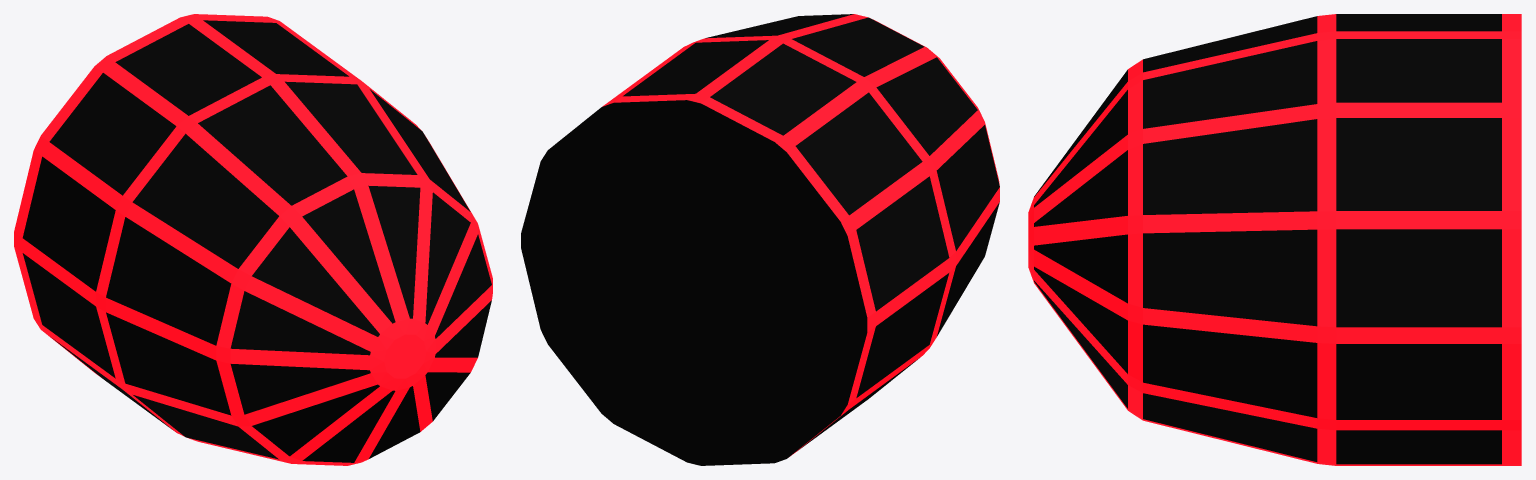
File: Projectile_Slug_Gun.fbx
The picture shows the model from 3 angles, left to right: view 1: azimuth 30°, elevation 25°; view 2: azimuth 150°, elevation 25°; view 3: azimuth 270°, elevation 25°; orthographic projection. The views are drawn at different scales.
Visible parts, largest first — view 1: Cylinder; view 2: Cylinder; view 3: Cylinder.
Boxes of the visible parts, <box> form: Cylinder: <box>14,14,492,465</box>; Cylinder: <box>521,14,999,465</box>; Cylinder: <box>1028,14,1521,465</box>.
Bounding box in the file's own units: 4.78 × 4.78 × 5.21.
